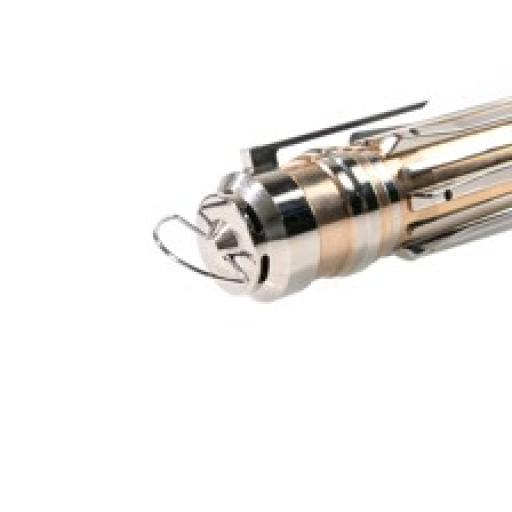lightsaber: (138, 81, 512, 308)
